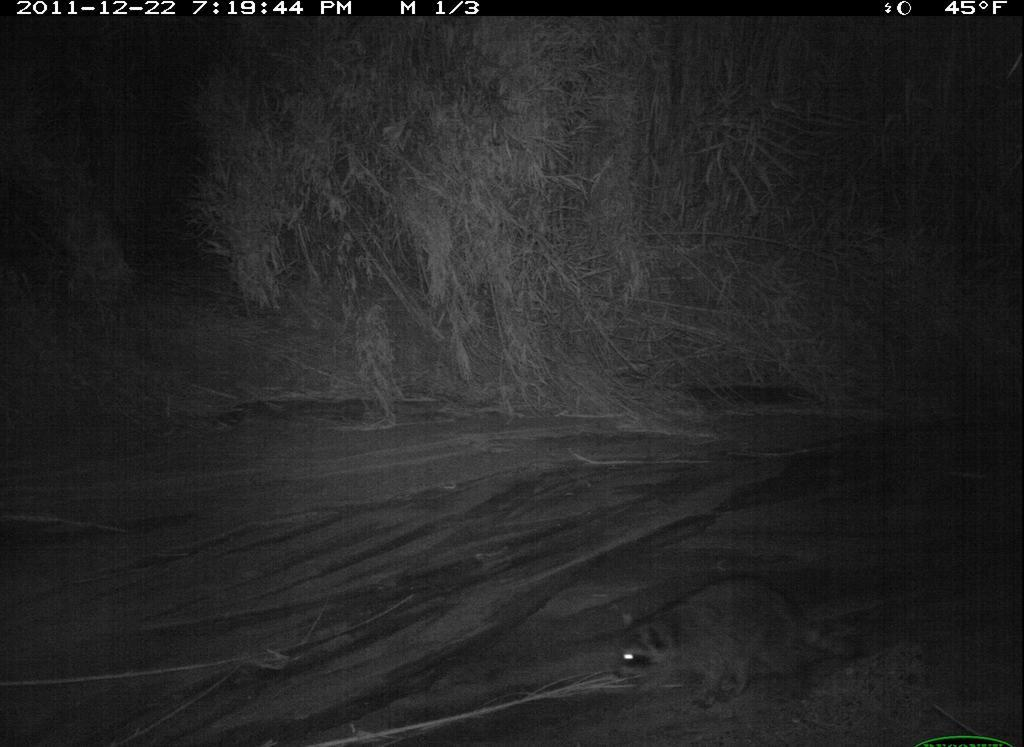raccoon: (616, 570, 897, 719)
